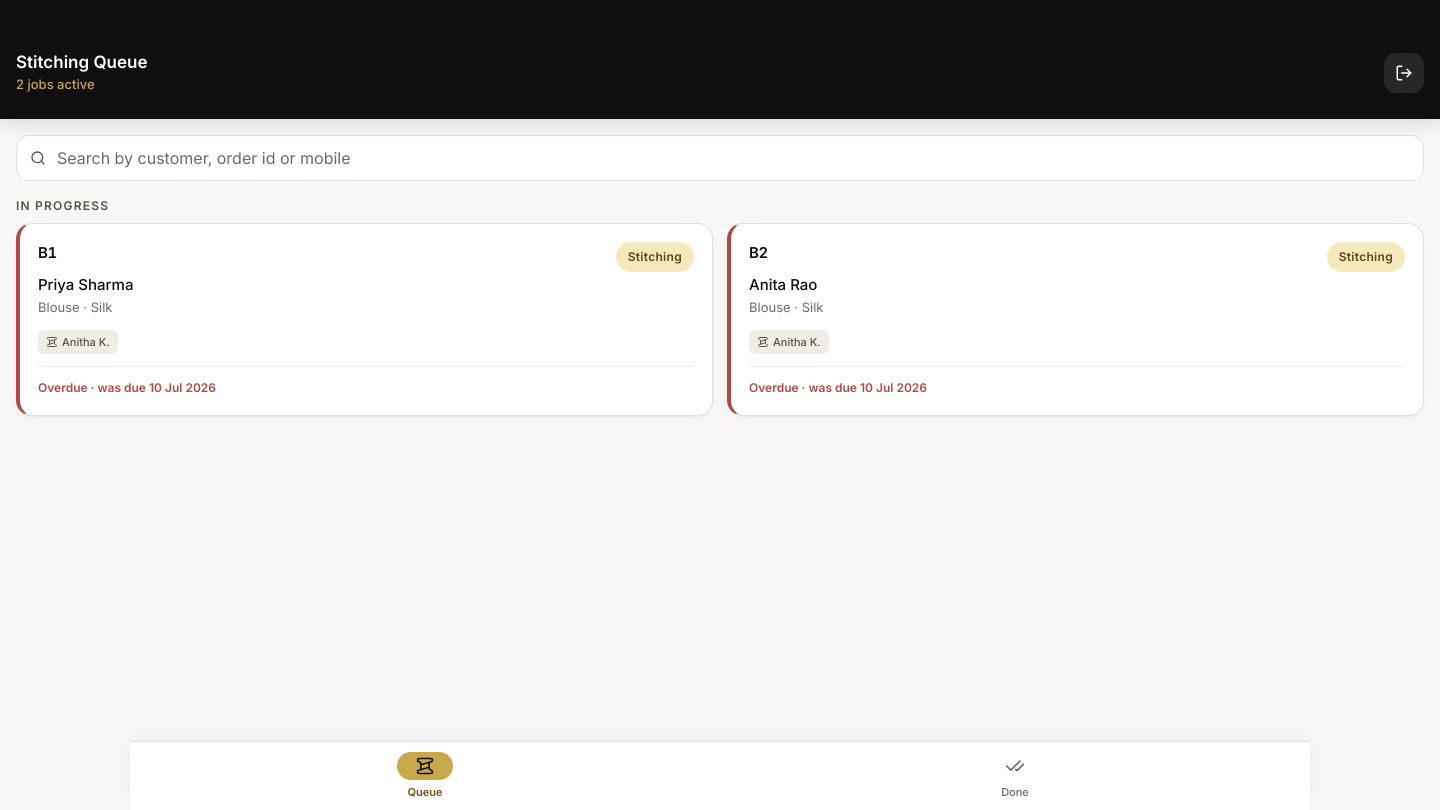
it: QueueBody › filters the queue by search and shows a no-match state
In the field named "Search orders": (720, 158) [16, 135, 1424, 181], type "priya"
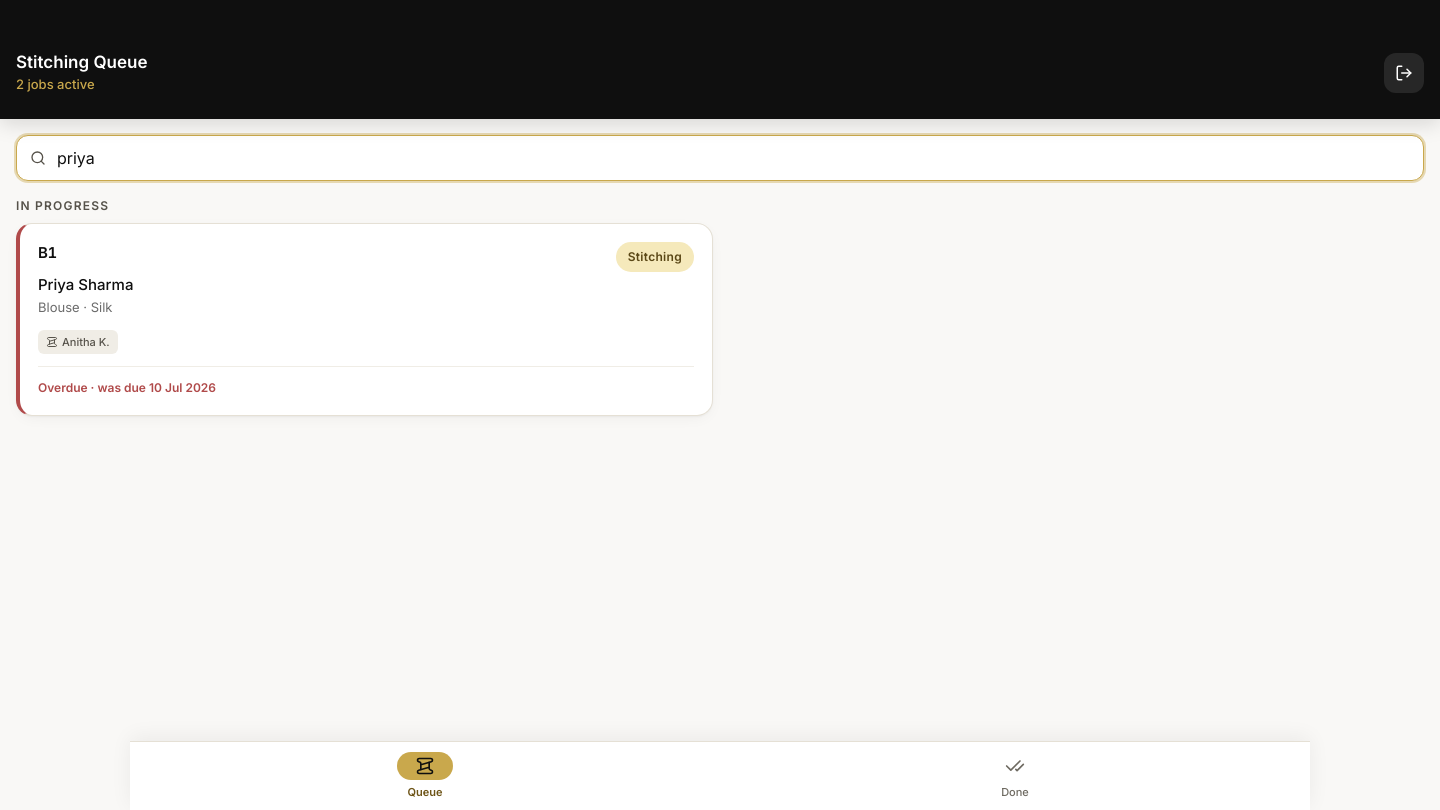
Expected: the text "B1" is shown, [38, 242, 57, 264]
Now the button "B2" is gone
Replace the text in the field named "Search orders" with "nobody": (720, 158) [16, 135, 1424, 181]
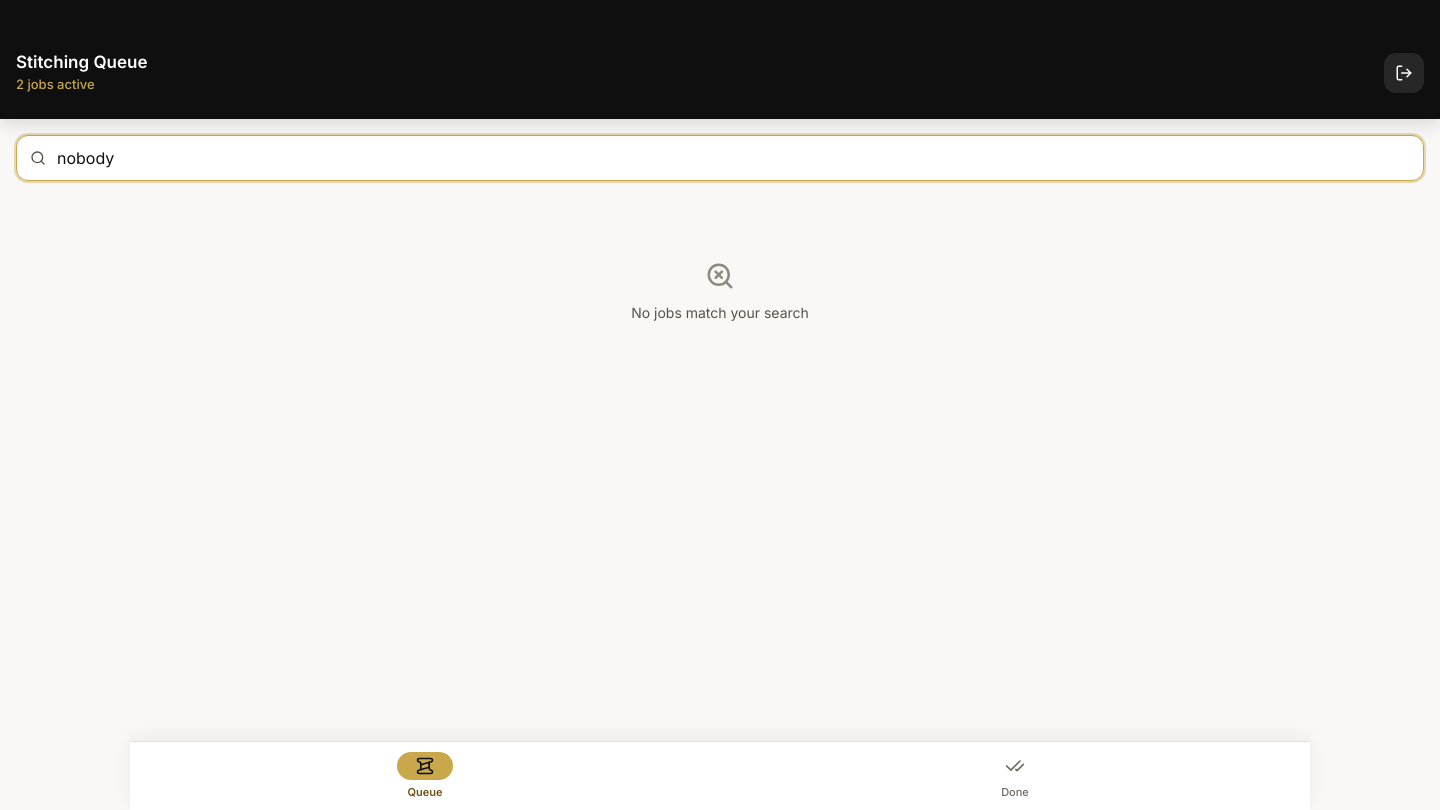
Now the text "No jobs match your search" is shown, box [631, 304, 809, 321]
